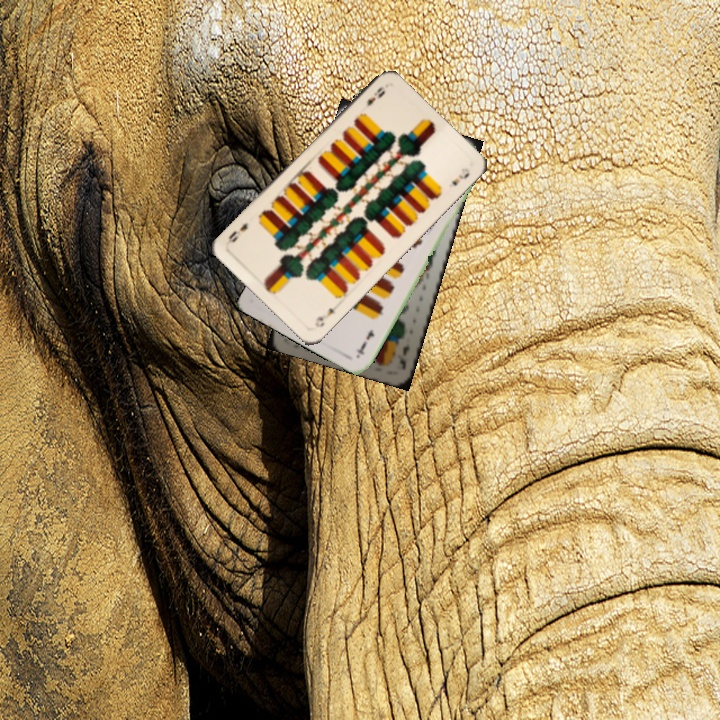E7: (352, 325, 377, 359)
E9: (311, 304, 337, 330), (363, 82, 388, 109)
EK: (396, 340, 412, 372)
